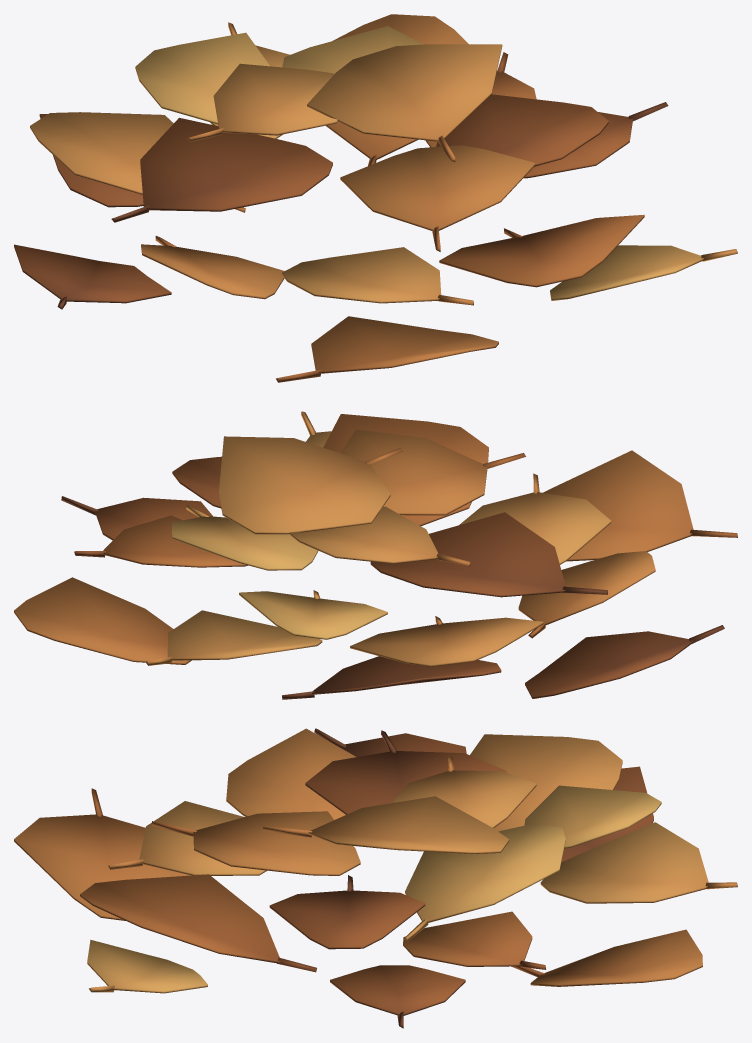
Rendered from fallenleaves.lod0.glb.
3 views of the same model, one above another, from view 1: azimuth 30°, elevation 25°; view 2: azimuth 150°, elevation 25°; view 3: azimuth 270°, elevation 25° (orthographic). The views are drawn at different scales.
Parts seen in each view (by area): view 1: fallenleaves_s1_lod0; view 2: fallenleaves_s1_lod0; view 3: fallenleaves_s1_lod0.
Part boxes in pixels (<box>): fallenleaves_s1_lod0: <box>14,14,737,382</box>; fallenleaves_s1_lod0: <box>14,411,737,699</box>; fallenleaves_s1_lod0: <box>14,728,737,1028</box>.
Size of the model in its own units: 0.6278 by 0.1477 by 0.6245.
